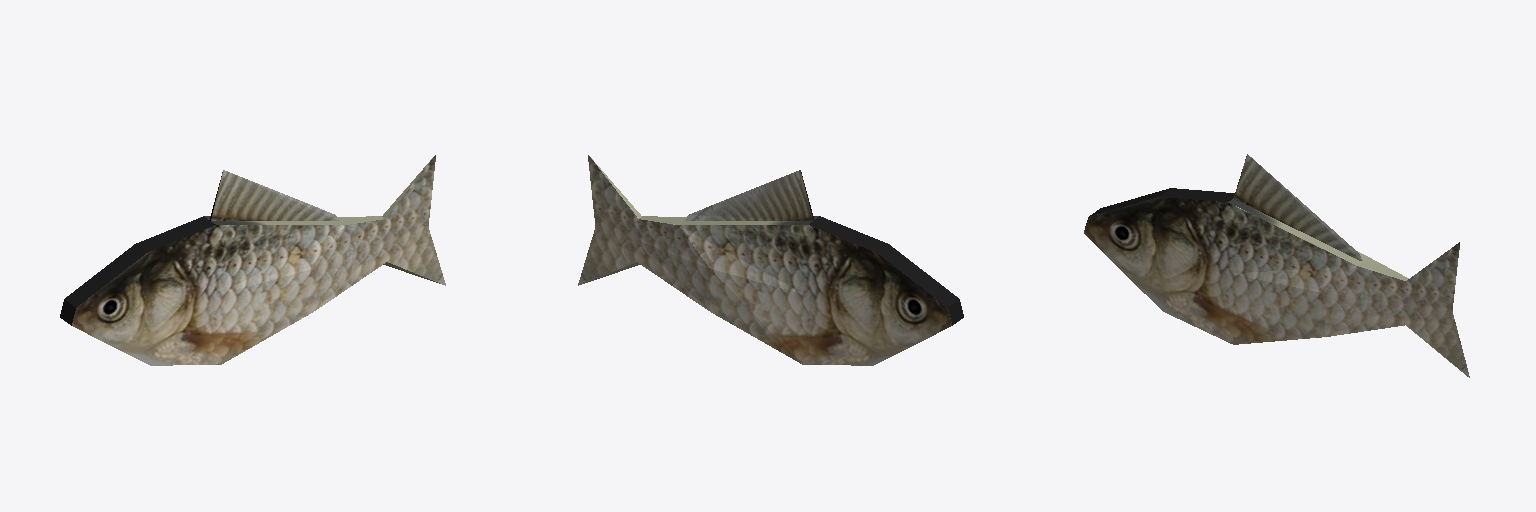
3 renders of one model, left to right at view 1: azimuth 30°, elevation 25°; view 2: azimuth 150°, elevation 25°; view 3: azimuth 330°, elevation 25°, orthographic.
Size of the model in its own units: 401 by 190 by 29.24.
Materials: 1 (1 with a texture image).